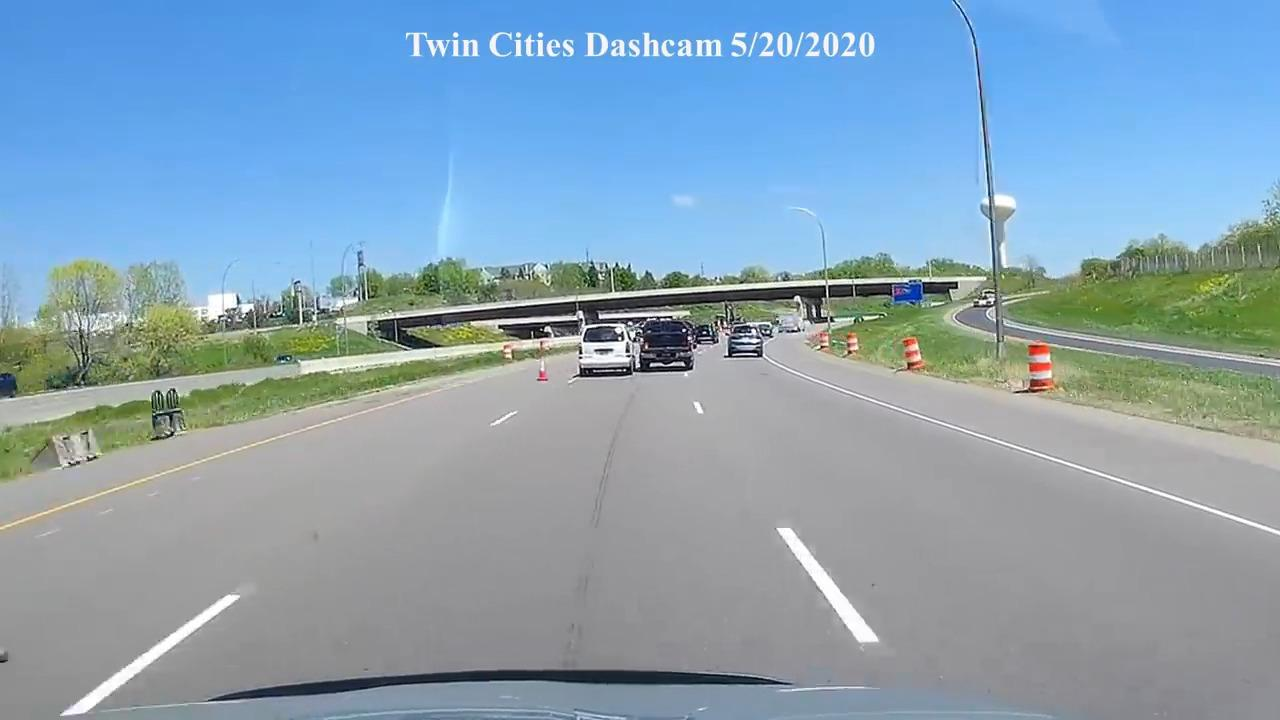car: (0, 373, 17, 399)
traffic cone: (1025, 341, 1056, 392), (900, 336, 926, 373), (535, 356, 549, 383), (845, 332, 859, 357)
